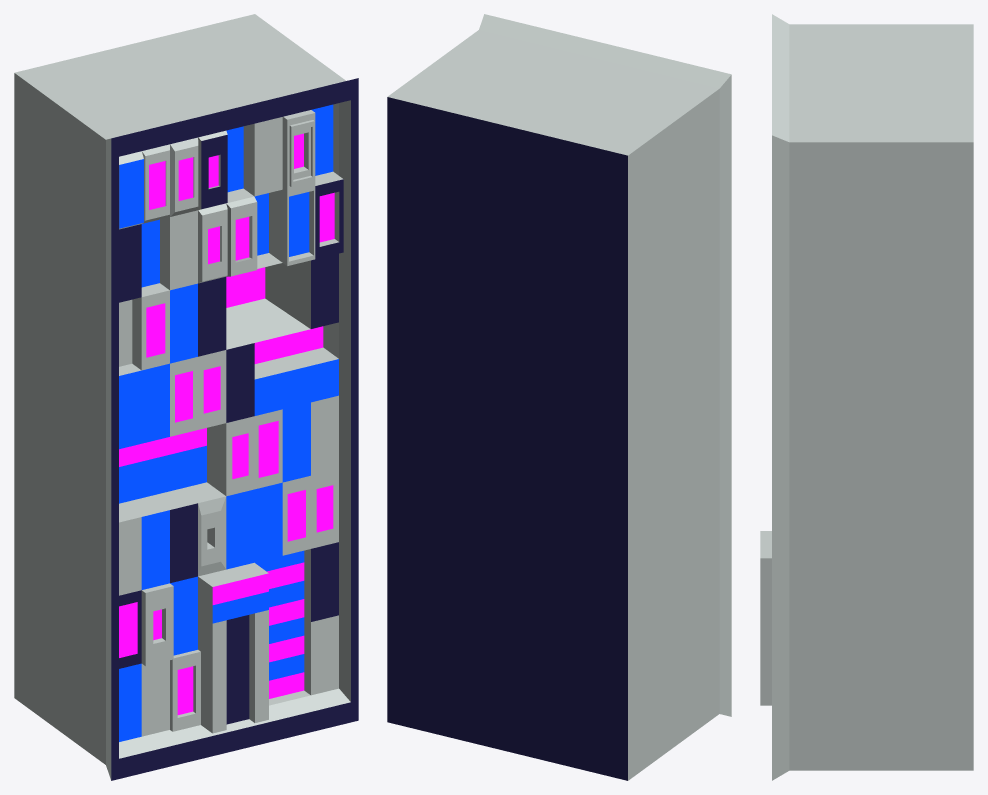
File: BuildingTall.fbx
3 views of the same model, side by side, from view 1: azimuth 30°, elevation 25°; view 2: azimuth 150°, elevation 25°; view 3: azimuth 270°, elevation 25° (orthographic).
Parts seen in each view (by area): view 1: Building; view 2: Building; view 3: Building.
Boxes of the visible parts, x1,y1,x2,y2 form: Building: [14, 14, 358, 780]; Building: [387, 14, 731, 780]; Building: [760, 14, 973, 780].
Bounding box in the file's own units: 415 × 1031 × 309.
